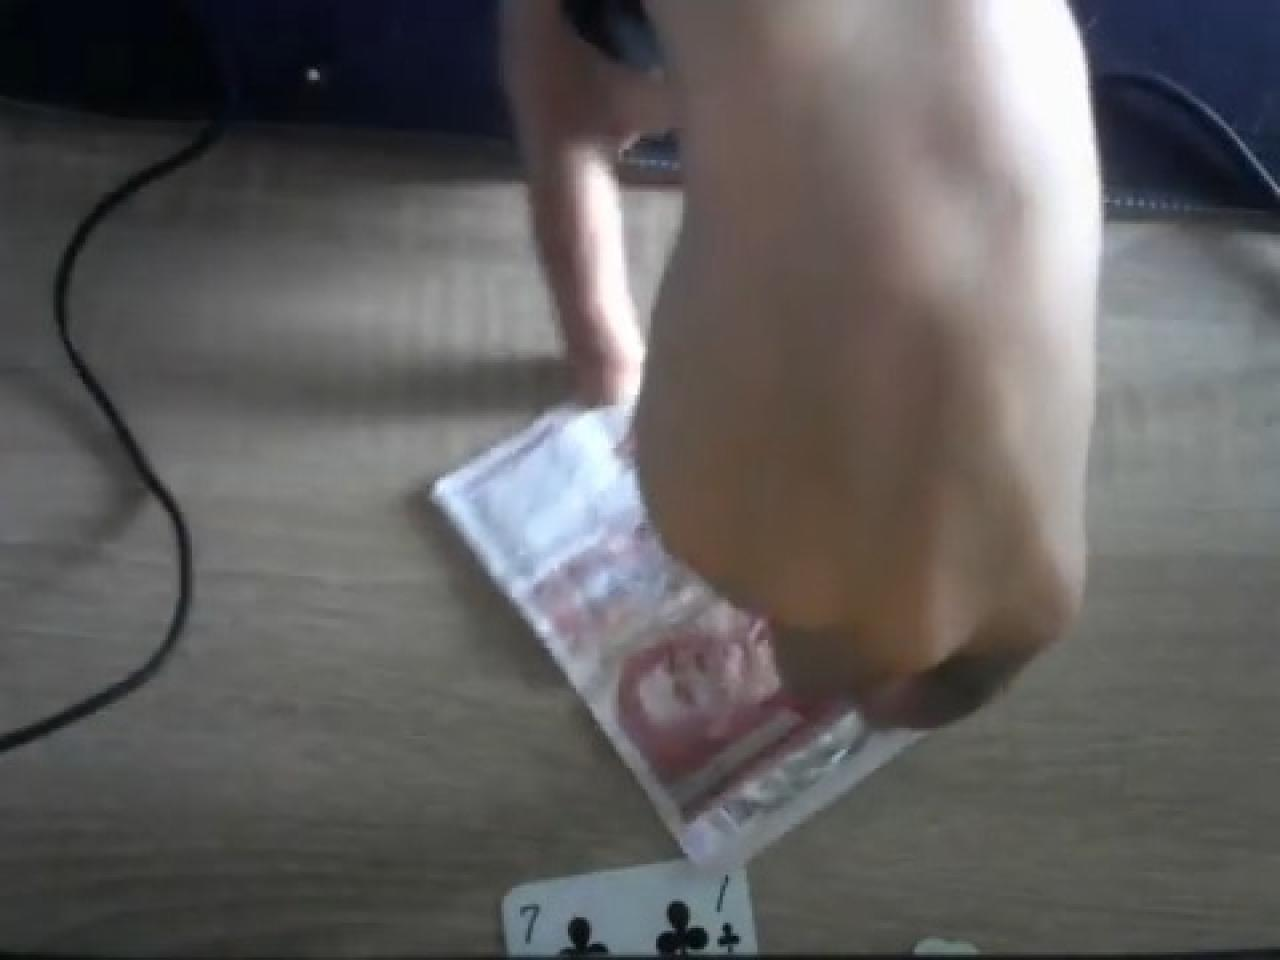5leva: (426, 394, 920, 877)
